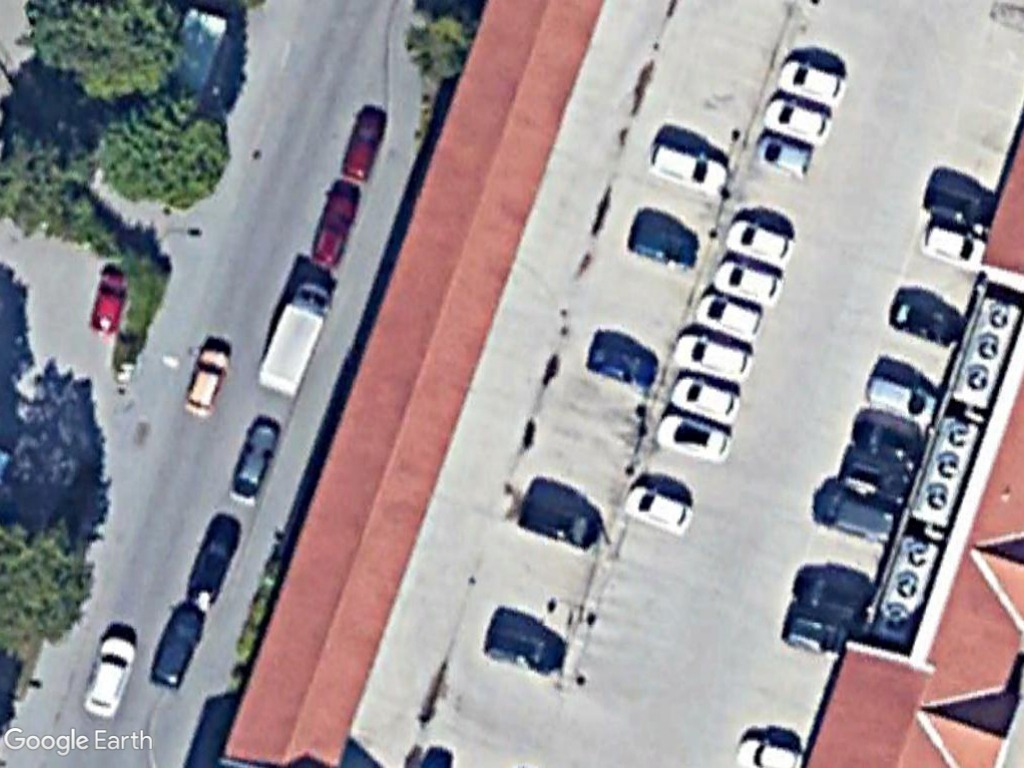car: (512, 490, 606, 555), (77, 629, 140, 722), (479, 617, 570, 679), (183, 512, 240, 610), (149, 597, 206, 694), (226, 414, 282, 507), (306, 187, 365, 275), (668, 328, 760, 384), (583, 333, 666, 395), (642, 140, 732, 197), (861, 366, 942, 428), (694, 289, 774, 348), (618, 482, 702, 538), (652, 408, 738, 462), (625, 216, 702, 275), (180, 339, 233, 424), (722, 213, 801, 270), (664, 369, 748, 422), (774, 54, 853, 110), (338, 101, 390, 184), (916, 219, 992, 275), (760, 96, 838, 147), (708, 256, 787, 306), (752, 131, 818, 176)
truck: (252, 276, 337, 402)
